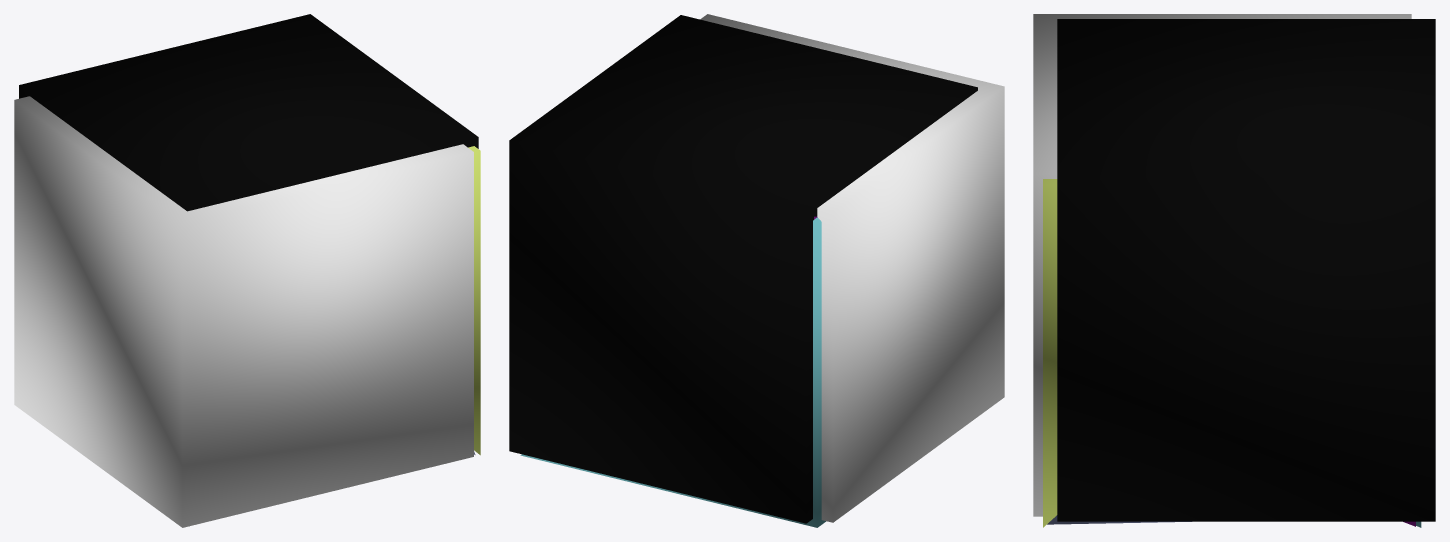
3 views of the same model, side by side, from view 1: azimuth 30°, elevation 25°; view 2: azimuth 150°, elevation 25°; view 3: azimuth 270°, elevation 25° (orthographic). The views are drawn at different scales.
Parts seen in each view (by area): view 1: Renderer Node; view 2: Renderer Node; view 3: Renderer Node.
Boxes of the visible parts, box(x1,y1,x2,y2) form: Renderer Node: box(14, 14, 480, 527); Renderer Node: box(509, 14, 1004, 527); Renderer Node: box(1033, 14, 1435, 527).
Size of the model in its own units: 0.9011 by 0.8775 by 0.91.
